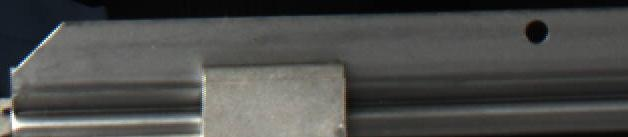cut: (7, 15, 184, 137)
holes: (523, 18, 549, 43)
